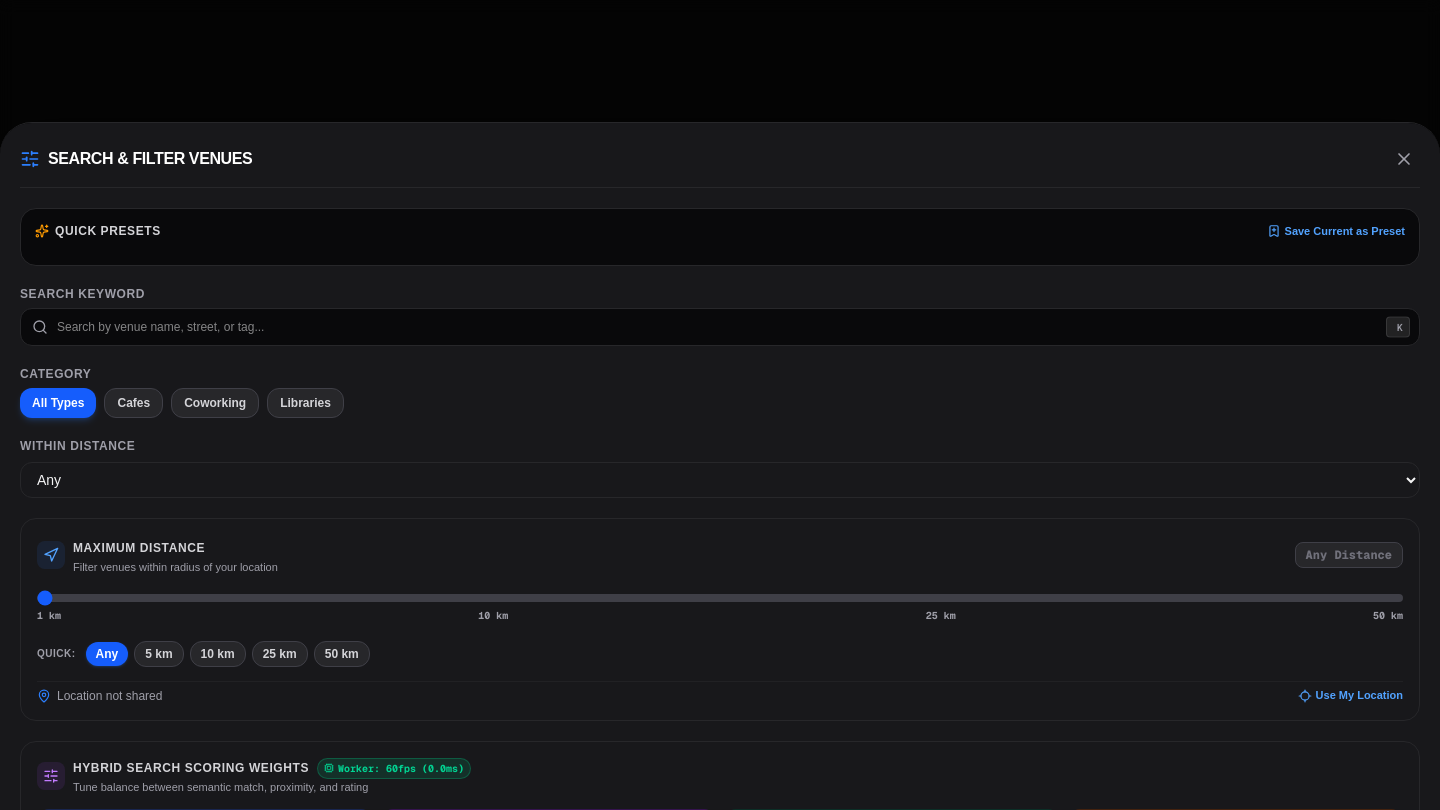
Scenario: VenueSearchDrawer Component (#1429) › Clear Filters visibility & interactions (#3343) › displays active chips and allows individual dismissal for category, noise, and price
# Select category
Click the button with test id "category-cafe".
click(134, 403)  # box top-left (104, 388), bottom-right (163, 418)
(page scrolled)
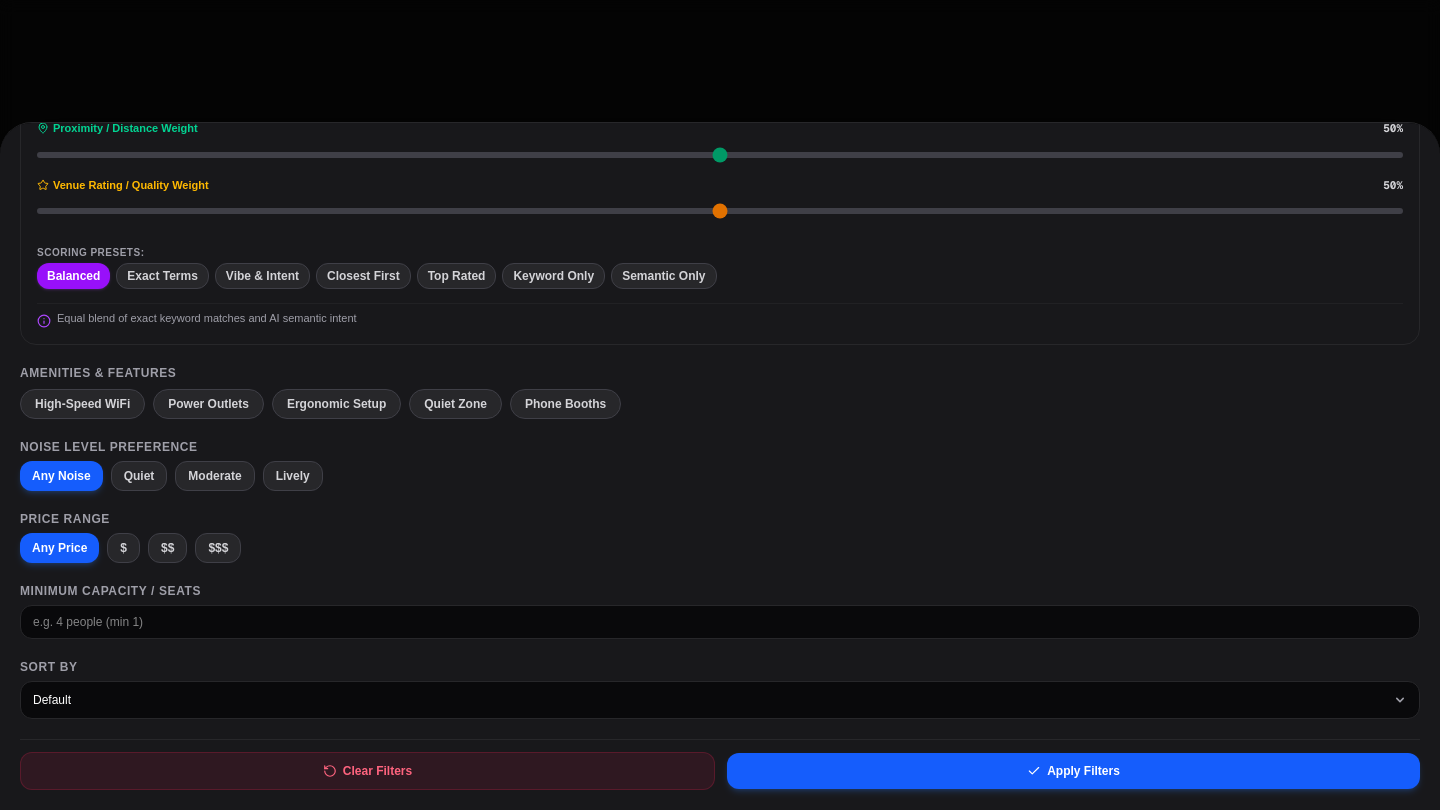
# Select noise
Click the button with test id "noise-quiet".
click(139, 476)  # box top-left (111, 461), bottom-right (167, 491)
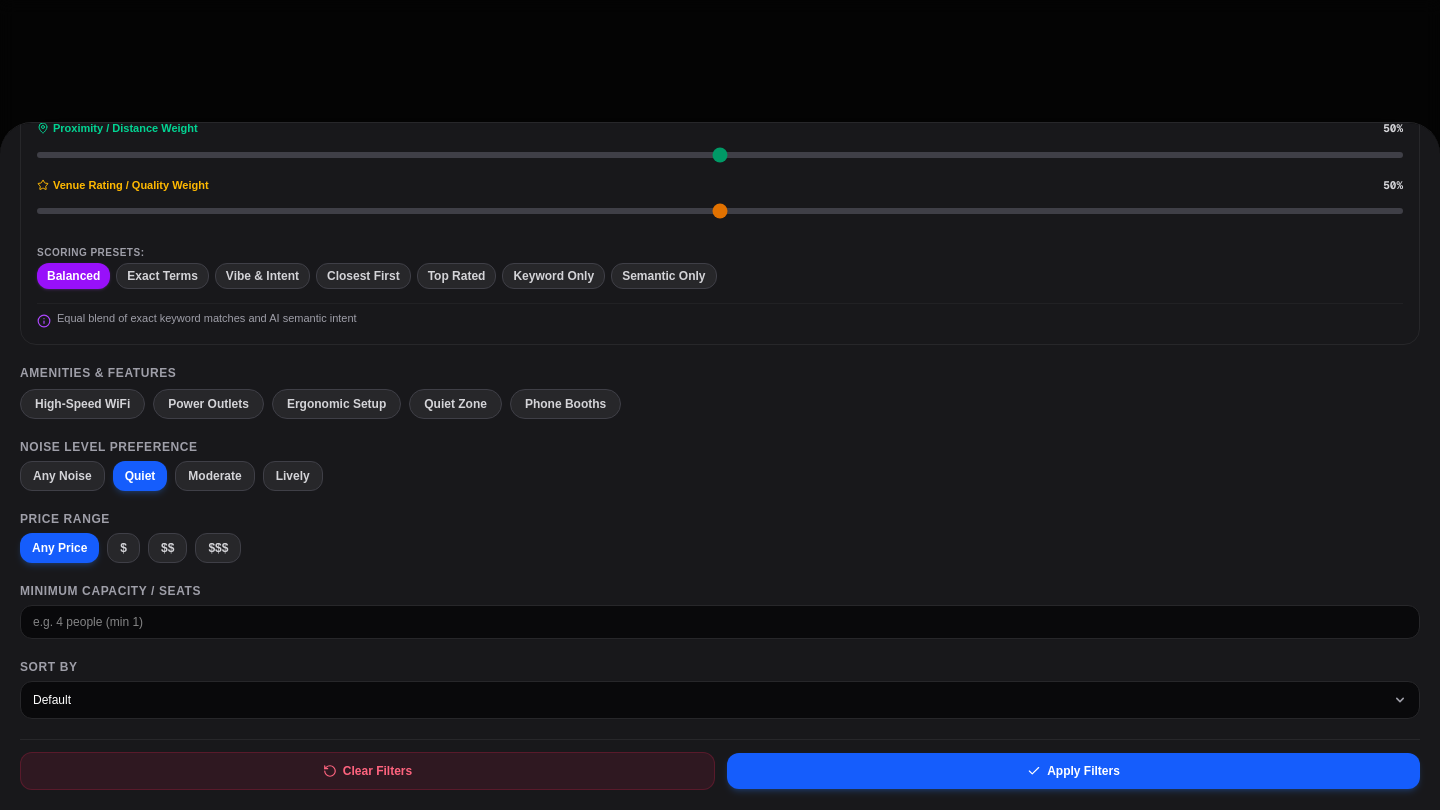
# Select price
Click the button with test id "price-$$".
click(168, 548)  # box top-left (148, 533), bottom-right (187, 563)
(page scrolled)
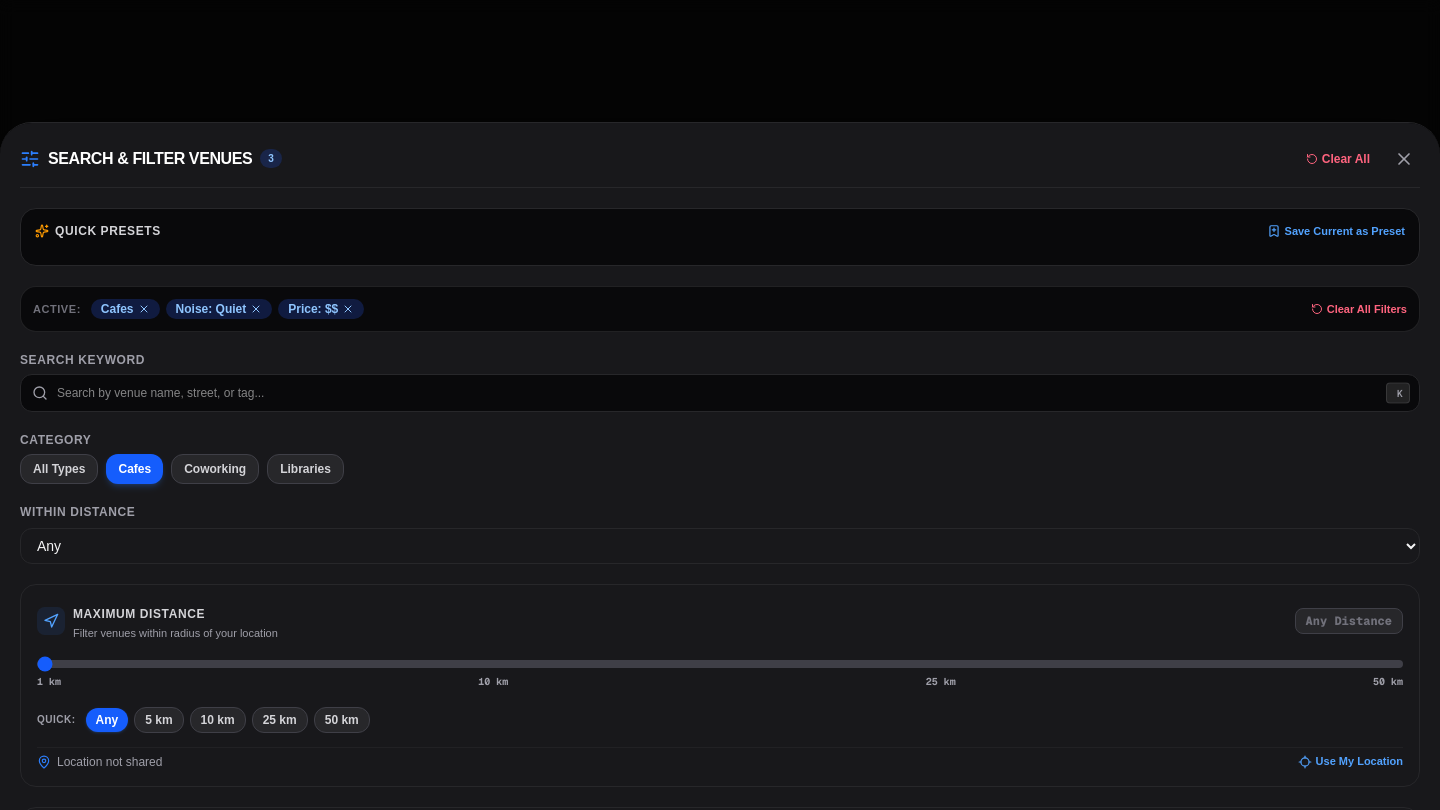
Now the text with test id "active-filter-badge" reads "3", box top-left (268, 153), bottom-right (274, 164)
# Dismiss noise chip
Click the button with test id "clear-noise-chip".
click(256, 309)  # box top-left (250, 303), bottom-right (262, 315)
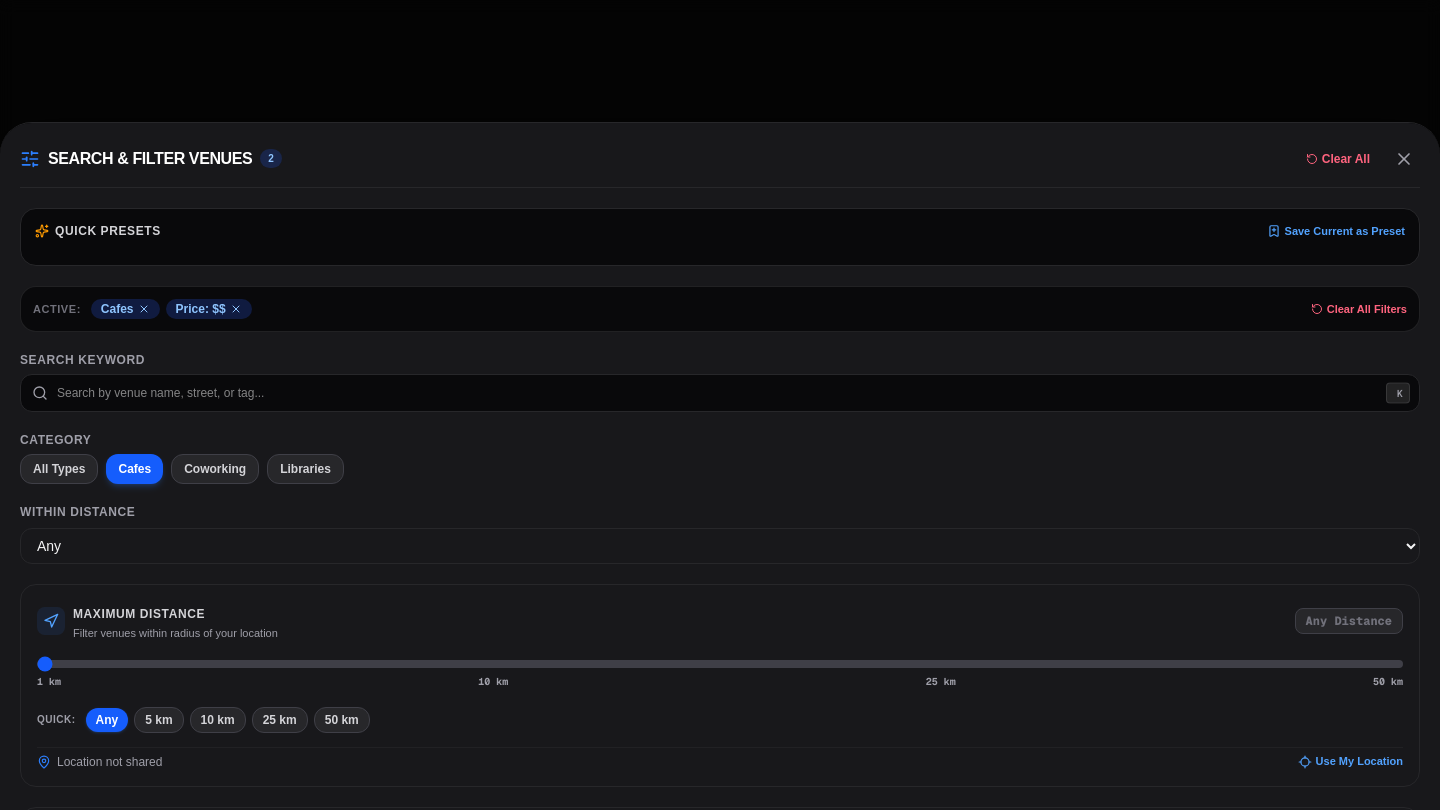
Now the text with test id "active-filter-badge" reads "2", box top-left (268, 153), bottom-right (274, 164)
# Click Clear All Filters in the active bar
Click the button with test id "clear-all-filters-btn".
click(1359, 309)  # box top-left (1311, 301), bottom-right (1407, 317)
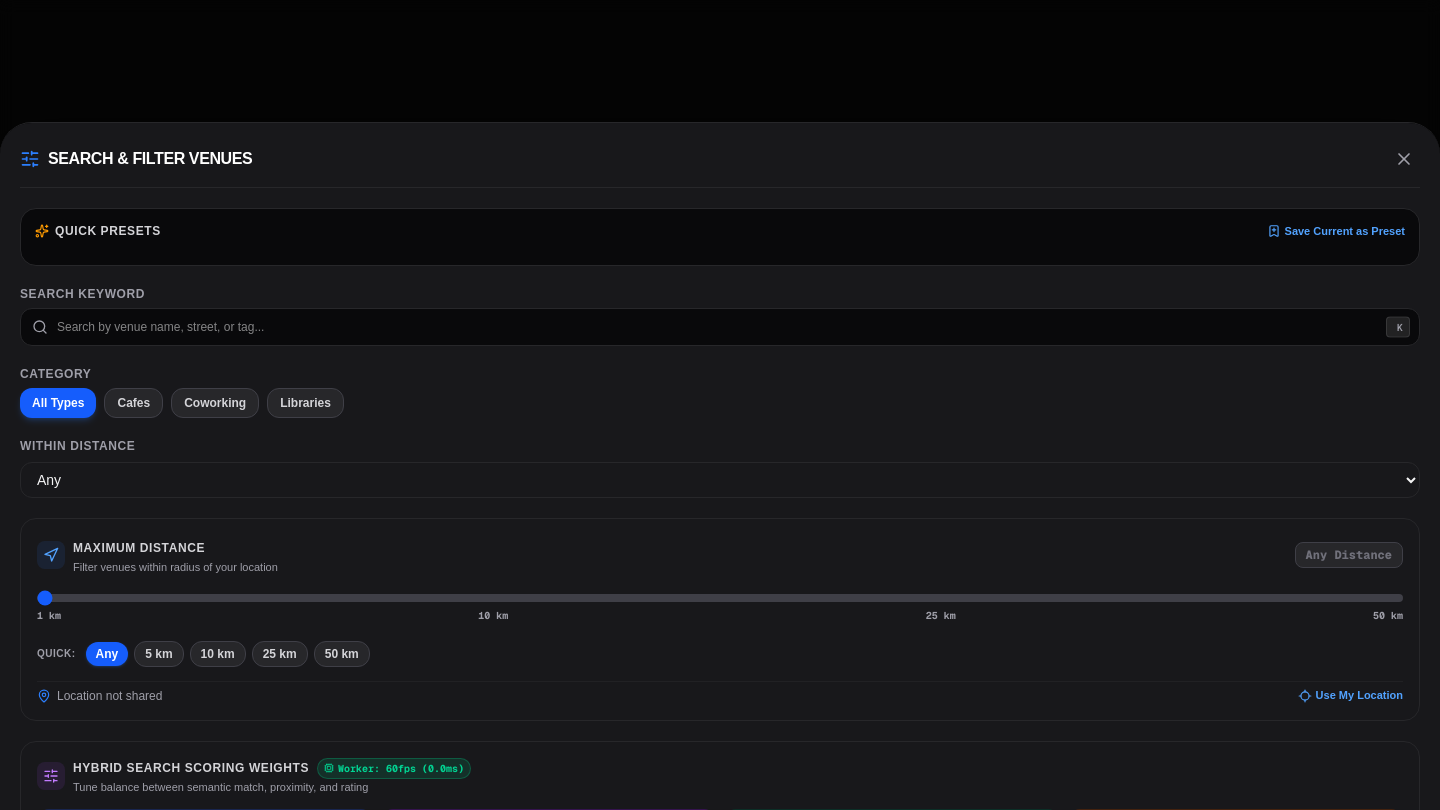
Now the element with test id "active-filters-bar" is gone
Now the text with test id "active-filter-badge" is gone
